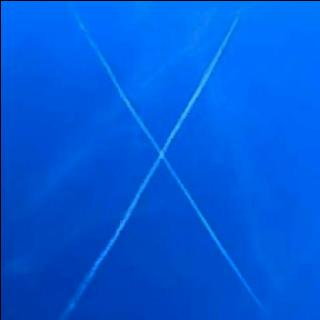Contrails: (14, 0, 308, 320)
